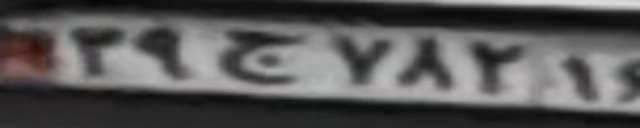1: (562, 54, 600, 101)
2: (474, 40, 523, 92)
3: (70, 22, 128, 77)
6: (616, 54, 637, 103)
7: (337, 35, 391, 85)
8: (399, 34, 456, 89)
9: (139, 24, 198, 81)
jim: (213, 28, 305, 83)
